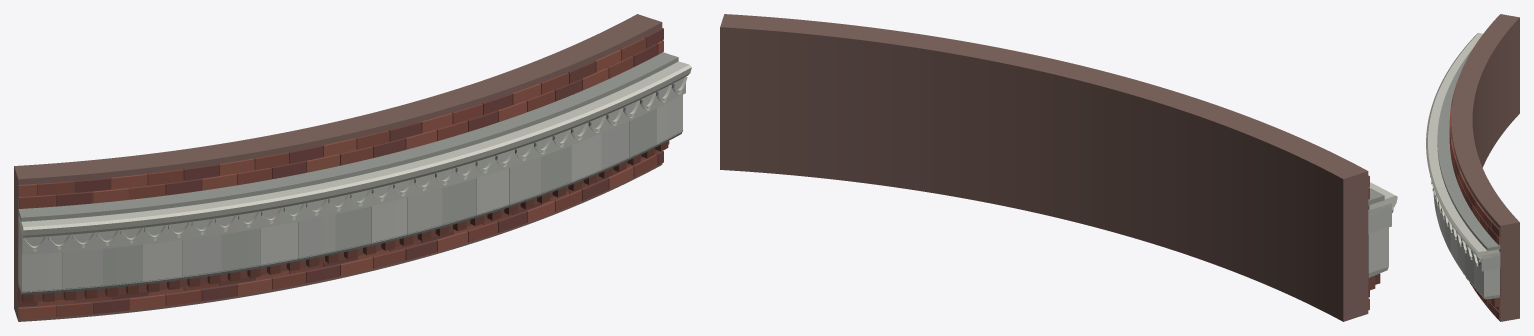
The model's file is huangpu-carlowitz-sichuan-curved-frieze-raw.glb.
3 renders of one model, left to right at view 1: azimuth 30°, elevation 25°; view 2: azimuth 150°, elevation 25°; view 3: azimuth 270°, elevation 25°, orthographic. The views are drawn at different scales.
Visible parts, largest first — view 1: 礼和大楼弧形转角花饰腰线与砖齿; view 2: 礼和大楼弧形转角花饰腰线与砖齿; view 3: 礼和大楼弧形转角花饰腰线与砖齿.
Boxes of the visible parts, x1,y1,x2,y2 form: 礼和大楼弧形转角花饰腰线与砖齿: [14, 14, 691, 321]; 礼和大楼弧形转角花饰腰线与砖齿: [720, 14, 1397, 321]; 礼和大楼弧形转角花饰腰线与砖齿: [1426, 14, 1519, 321].
Size of the model in its own units: 4.61 by 0.94 by 0.8323.
